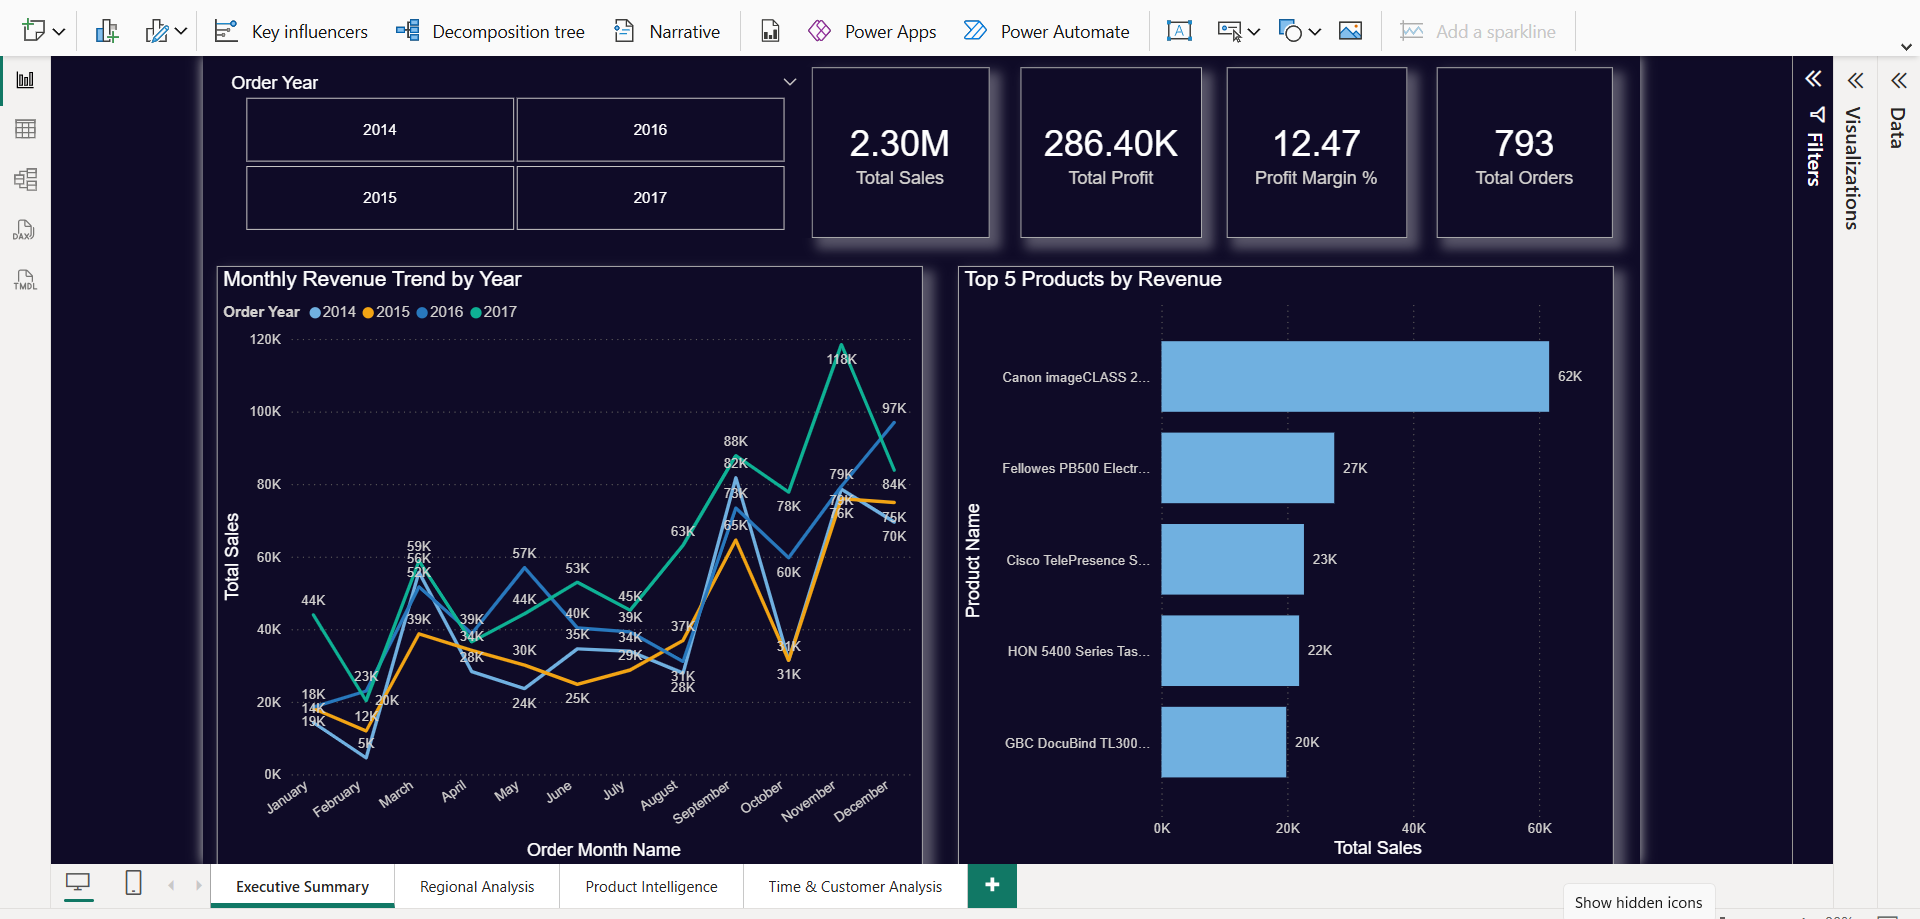

Layout of this report page (visuals, bound fields, positions):
{"tool":"powerbi","page":{"name":"Executive Summary","canvas":[1280,720],"ordinal":0},"visuals":[{"type":"card","fields":{"Values":["superstore_cleaned.Total Sales"]},"box":[541.7,9.7,158,152],"z":0},{"type":"card","fields":{"Values":["superstore_cleaned.Total Profit"]},"box":[727.5,9.7,161.7,152],"z":1},{"type":"card","fields":{"Values":["superstore_cleaned.Profit Margin %"]},"box":[912.1,9.7,160.5,152],"z":2},{"type":"card","fields":{"Values":["superstore_cleaned.Total Orders"]},"box":[1099.1,9.7,156.8,152],"z":3},{"type":"lineChart","title":"Monthly Revenue Trend by Year","fields":{"Category":["superstore_cleaned.Order Month Name"],"Y":["superstore_cleaned.Total Sales"],"Series":["superstore_cleaned.Order Year"]},"box":[12.1,187,628.6,534.5],"z":4},{"type":"clusteredBarChart","title":"Top 5 Products by Revenue","fields":{"Category":["superstore_cleaned.Product Name"],"Y":["superstore_cleaned.Total Sales"]},"box":[672,187,583.9,533.2],"z":5},{"type":"slicer","fields":{"Values":["superstore_cleaned.Order Year"]},"box":[12.1,9.7,529.6,152],"z":6}]}

Visuals, with their boxes on the page's 1280x720 design canvas (x1, y1, x2, y2). These are canvas units, not pixel positions in the 1920x919 screenshot, which may show the page scaled, cropped or inside an application window:
card - superstore_cleaned.Total Sales: detection(542, 10, 700, 162)
card - superstore_cleaned.Total Profit: detection(728, 10, 889, 162)
card - superstore_cleaned.Profit Margin %: detection(912, 10, 1073, 162)
card - superstore_cleaned.Total Orders: detection(1099, 10, 1256, 162)
"Monthly Revenue Trend by Year" lineChart: detection(12, 187, 641, 722)
"Top 5 Products by Revenue" clusteredBarChart: detection(672, 187, 1256, 720)
slicer - superstore_cleaned.Order Year: detection(12, 10, 542, 162)
